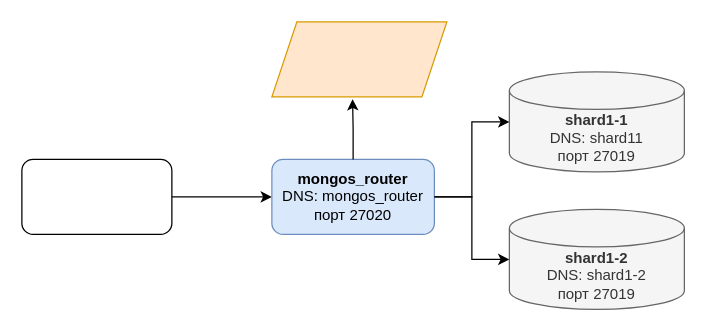
The diagram is 706 pixels wide and 331 high, and some of its shapes have lost their labels. Each missing label, with the centre of its shape:
"configSrv DNS: configSrv порт 27017" goes at pixel 359 59.
"pymongo-api" goes at pixel 96 196.
